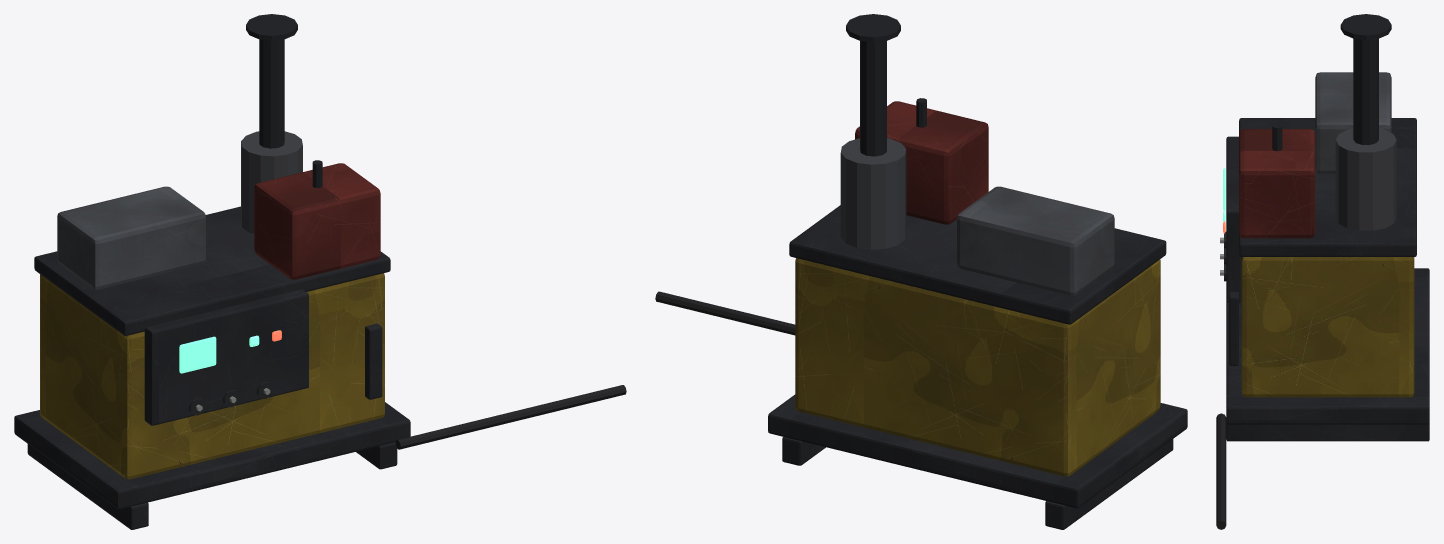
File: generator.glb
The picture shows the model from 3 angles, left to right: view 1: azimuth 30°, elevation 25°; view 2: azimuth 150°, elevation 25°; view 3: azimuth 270°, elevation 25°; orthographic projection. The views are drawn at different scales.
Parts seen in each view (by area): view 1: body; view 2: body; view 3: body.
Part boxes in pixels (x1=…): body: x1=14, y1=14, x2=626, y2=529; body: x1=655, y1=14, x2=1187, y2=529; body: x1=1216, y1=14, x2=1429, y2=529.
Bounding box in the file's own units: 2.23 × 1.7 × 0.84.
10 materials, 7 textured.
